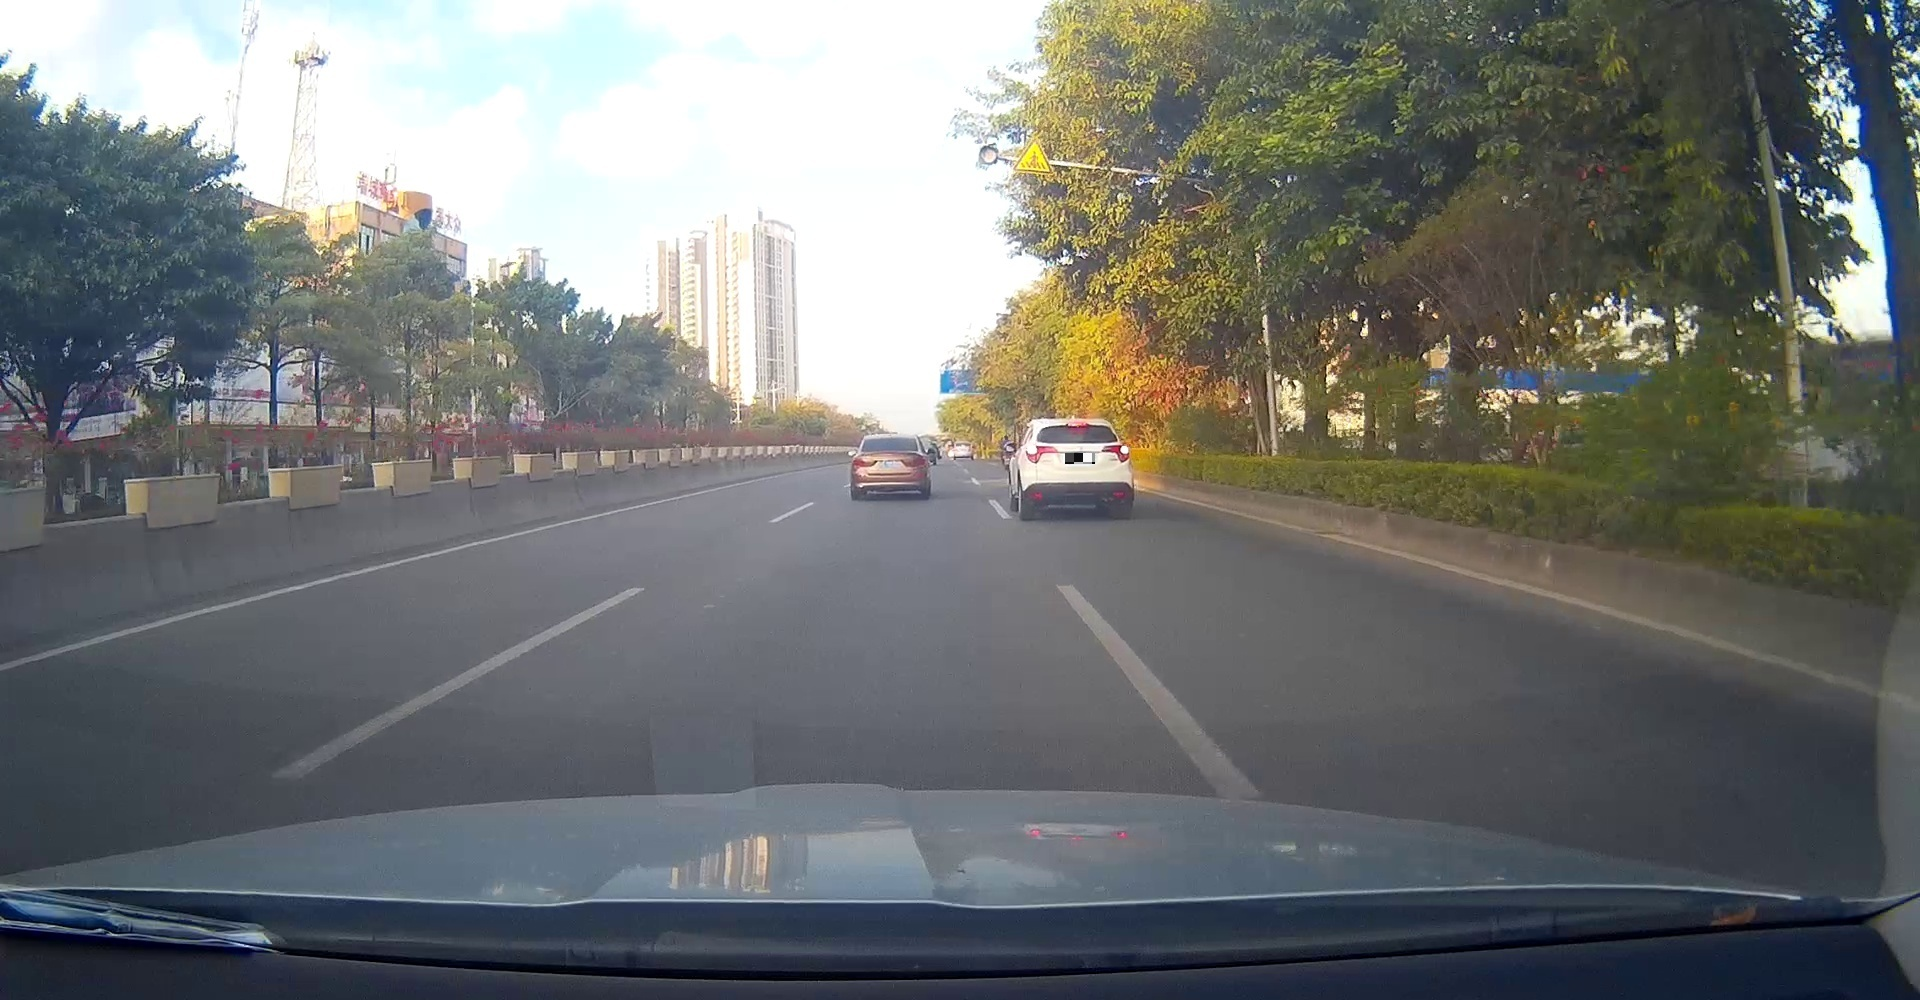L_light: (1026, 443, 1058, 462), (853, 459, 866, 466)
R_light: (1102, 444, 1130, 462), (908, 457, 927, 466)
T_light: (1067, 423, 1088, 426), (881, 451, 897, 452)
day-brake: (1025, 419, 1131, 520)
day-no: (852, 434, 927, 501)
plate_1: (1065, 453, 1095, 464)
